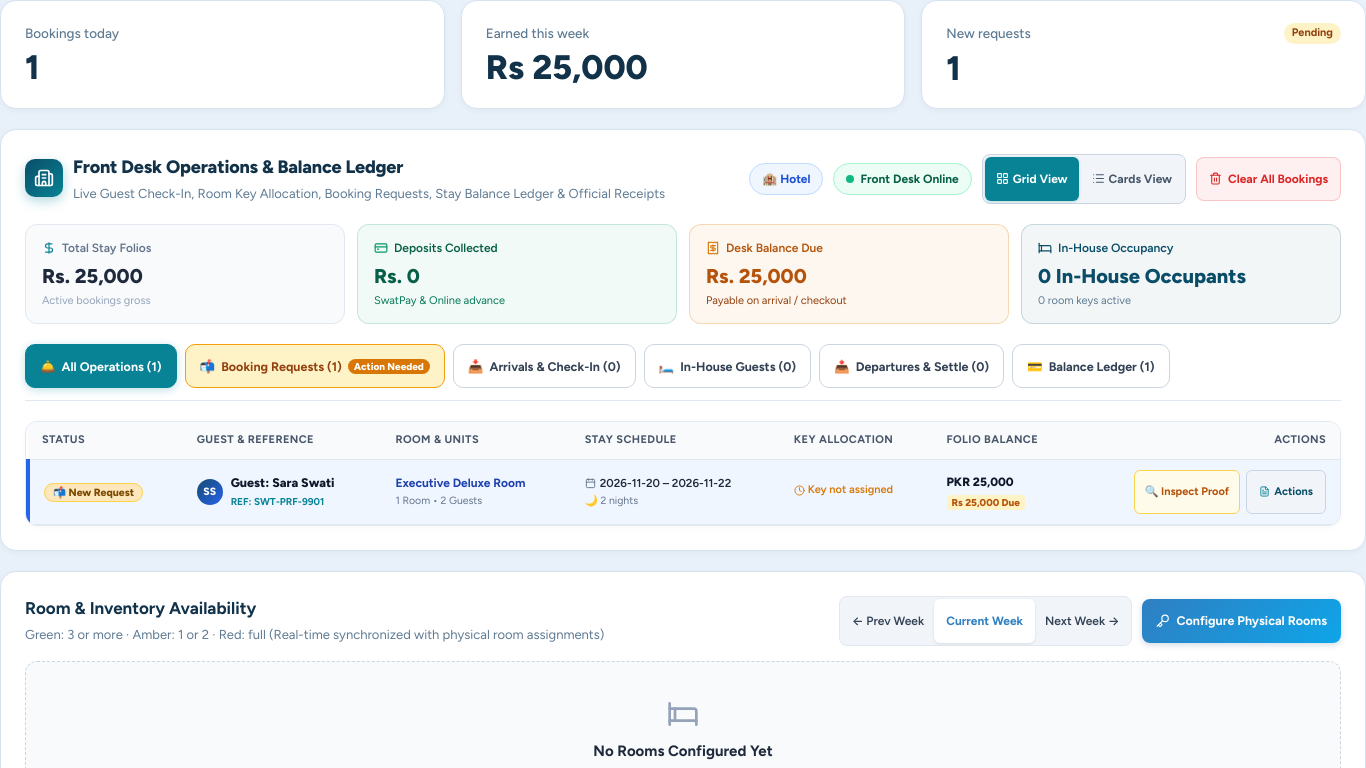
it: Tourist Payment Proof & Front-Desk Verification Components › shows Inspect Proof button on HotelTodayScreen desktop grid when rawBooking has direct_transfer_tid and opens inspector
Click the button "🔍 Inspect Proof" at (1187,492), box [1134,470,1240,514]
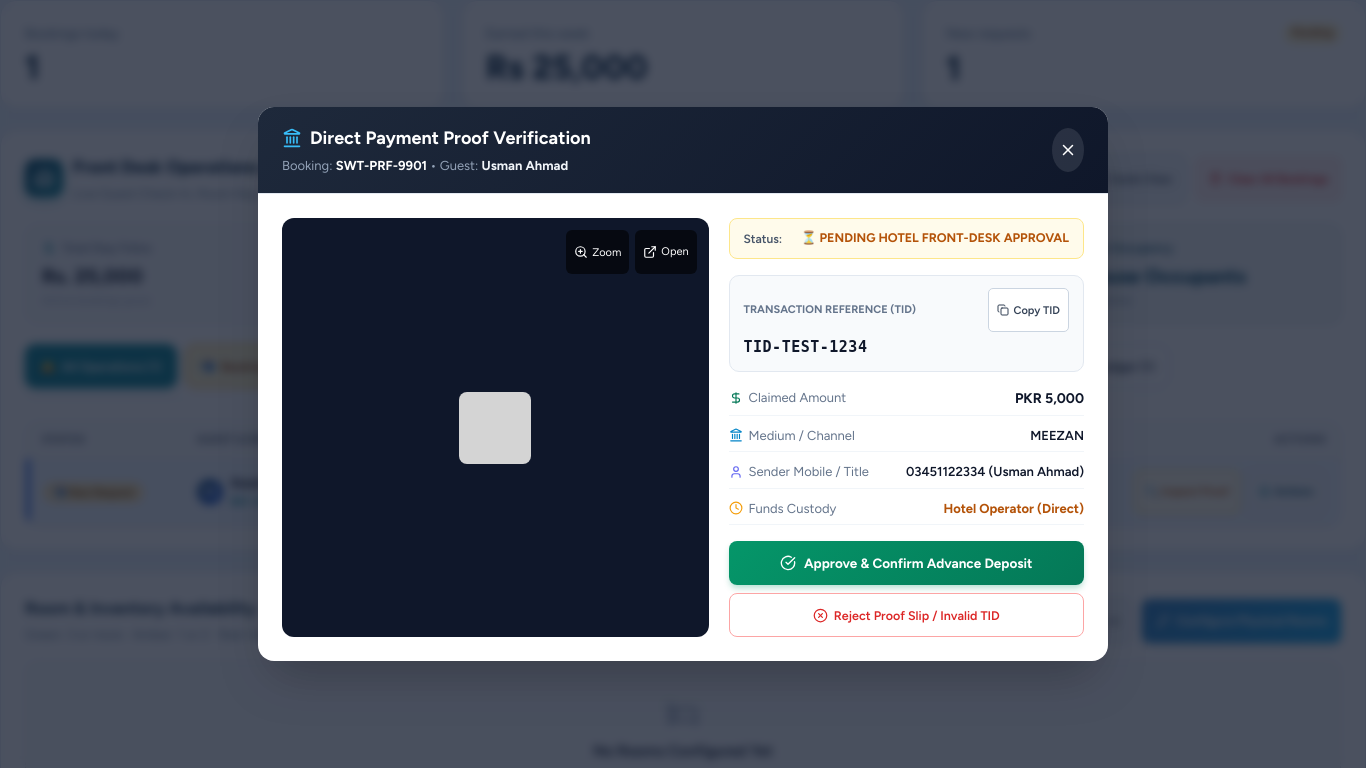
Now the text "TID-TEST-1234" is shown, box [744,338,867,356]
Now the button with test id "btn-approve-deposit" is shown, box [728,541,1084,585]
